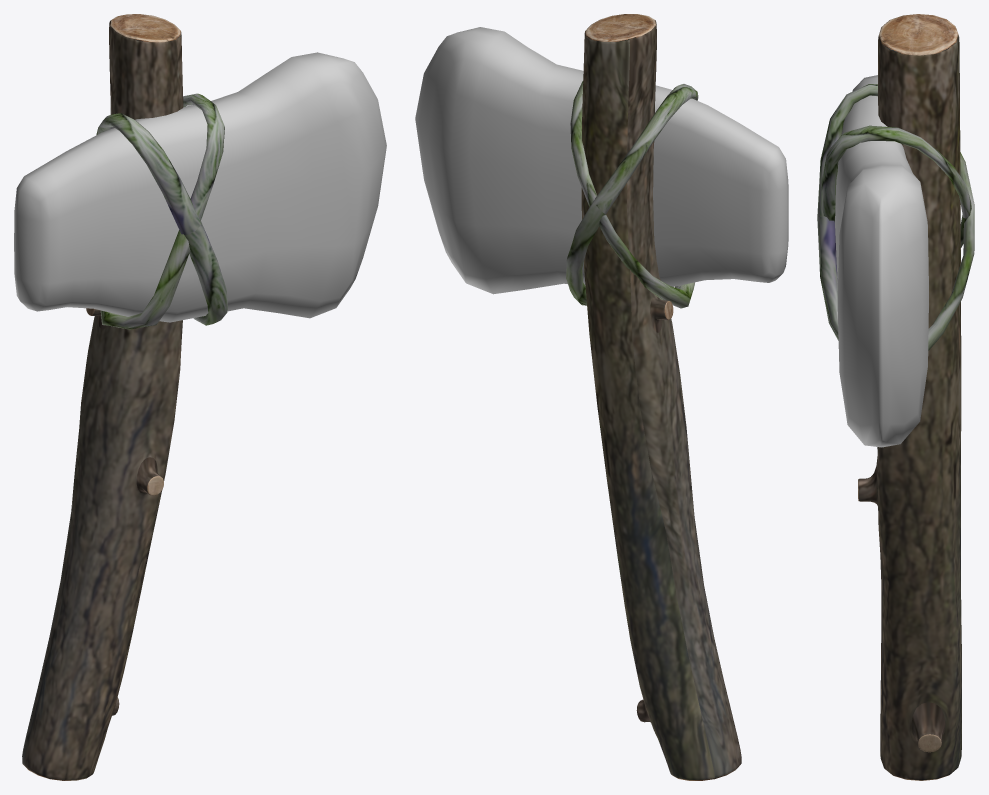
The model's file is Axe.fbx.
3 views of the same model, side by side, from view 1: azimuth 30°, elevation 25°; view 2: azimuth 150°, elevation 25°; view 3: azimuth 270°, elevation 25° (orthographic). The views are drawn at different scales.
Visible parts, largest first — view 1: stone, handle; view 2: handle, stone; view 3: handle, stone.
Boxes of the visible parts, box(x1,y1,x2,y2) form: stone: box(14, 52, 386, 322); handle: box(22, 14, 227, 780); handle: box(566, 14, 741, 780); stone: box(415, 27, 788, 294); handle: box(817, 14, 974, 780); stone: box(835, 75, 928, 447).
Size of the model in its own units: 250 by 470 by 85.59.
